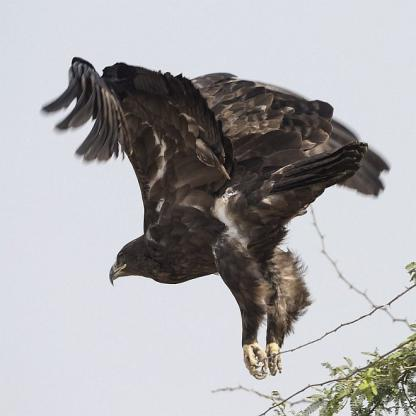Burung: (39, 56, 367, 382)
